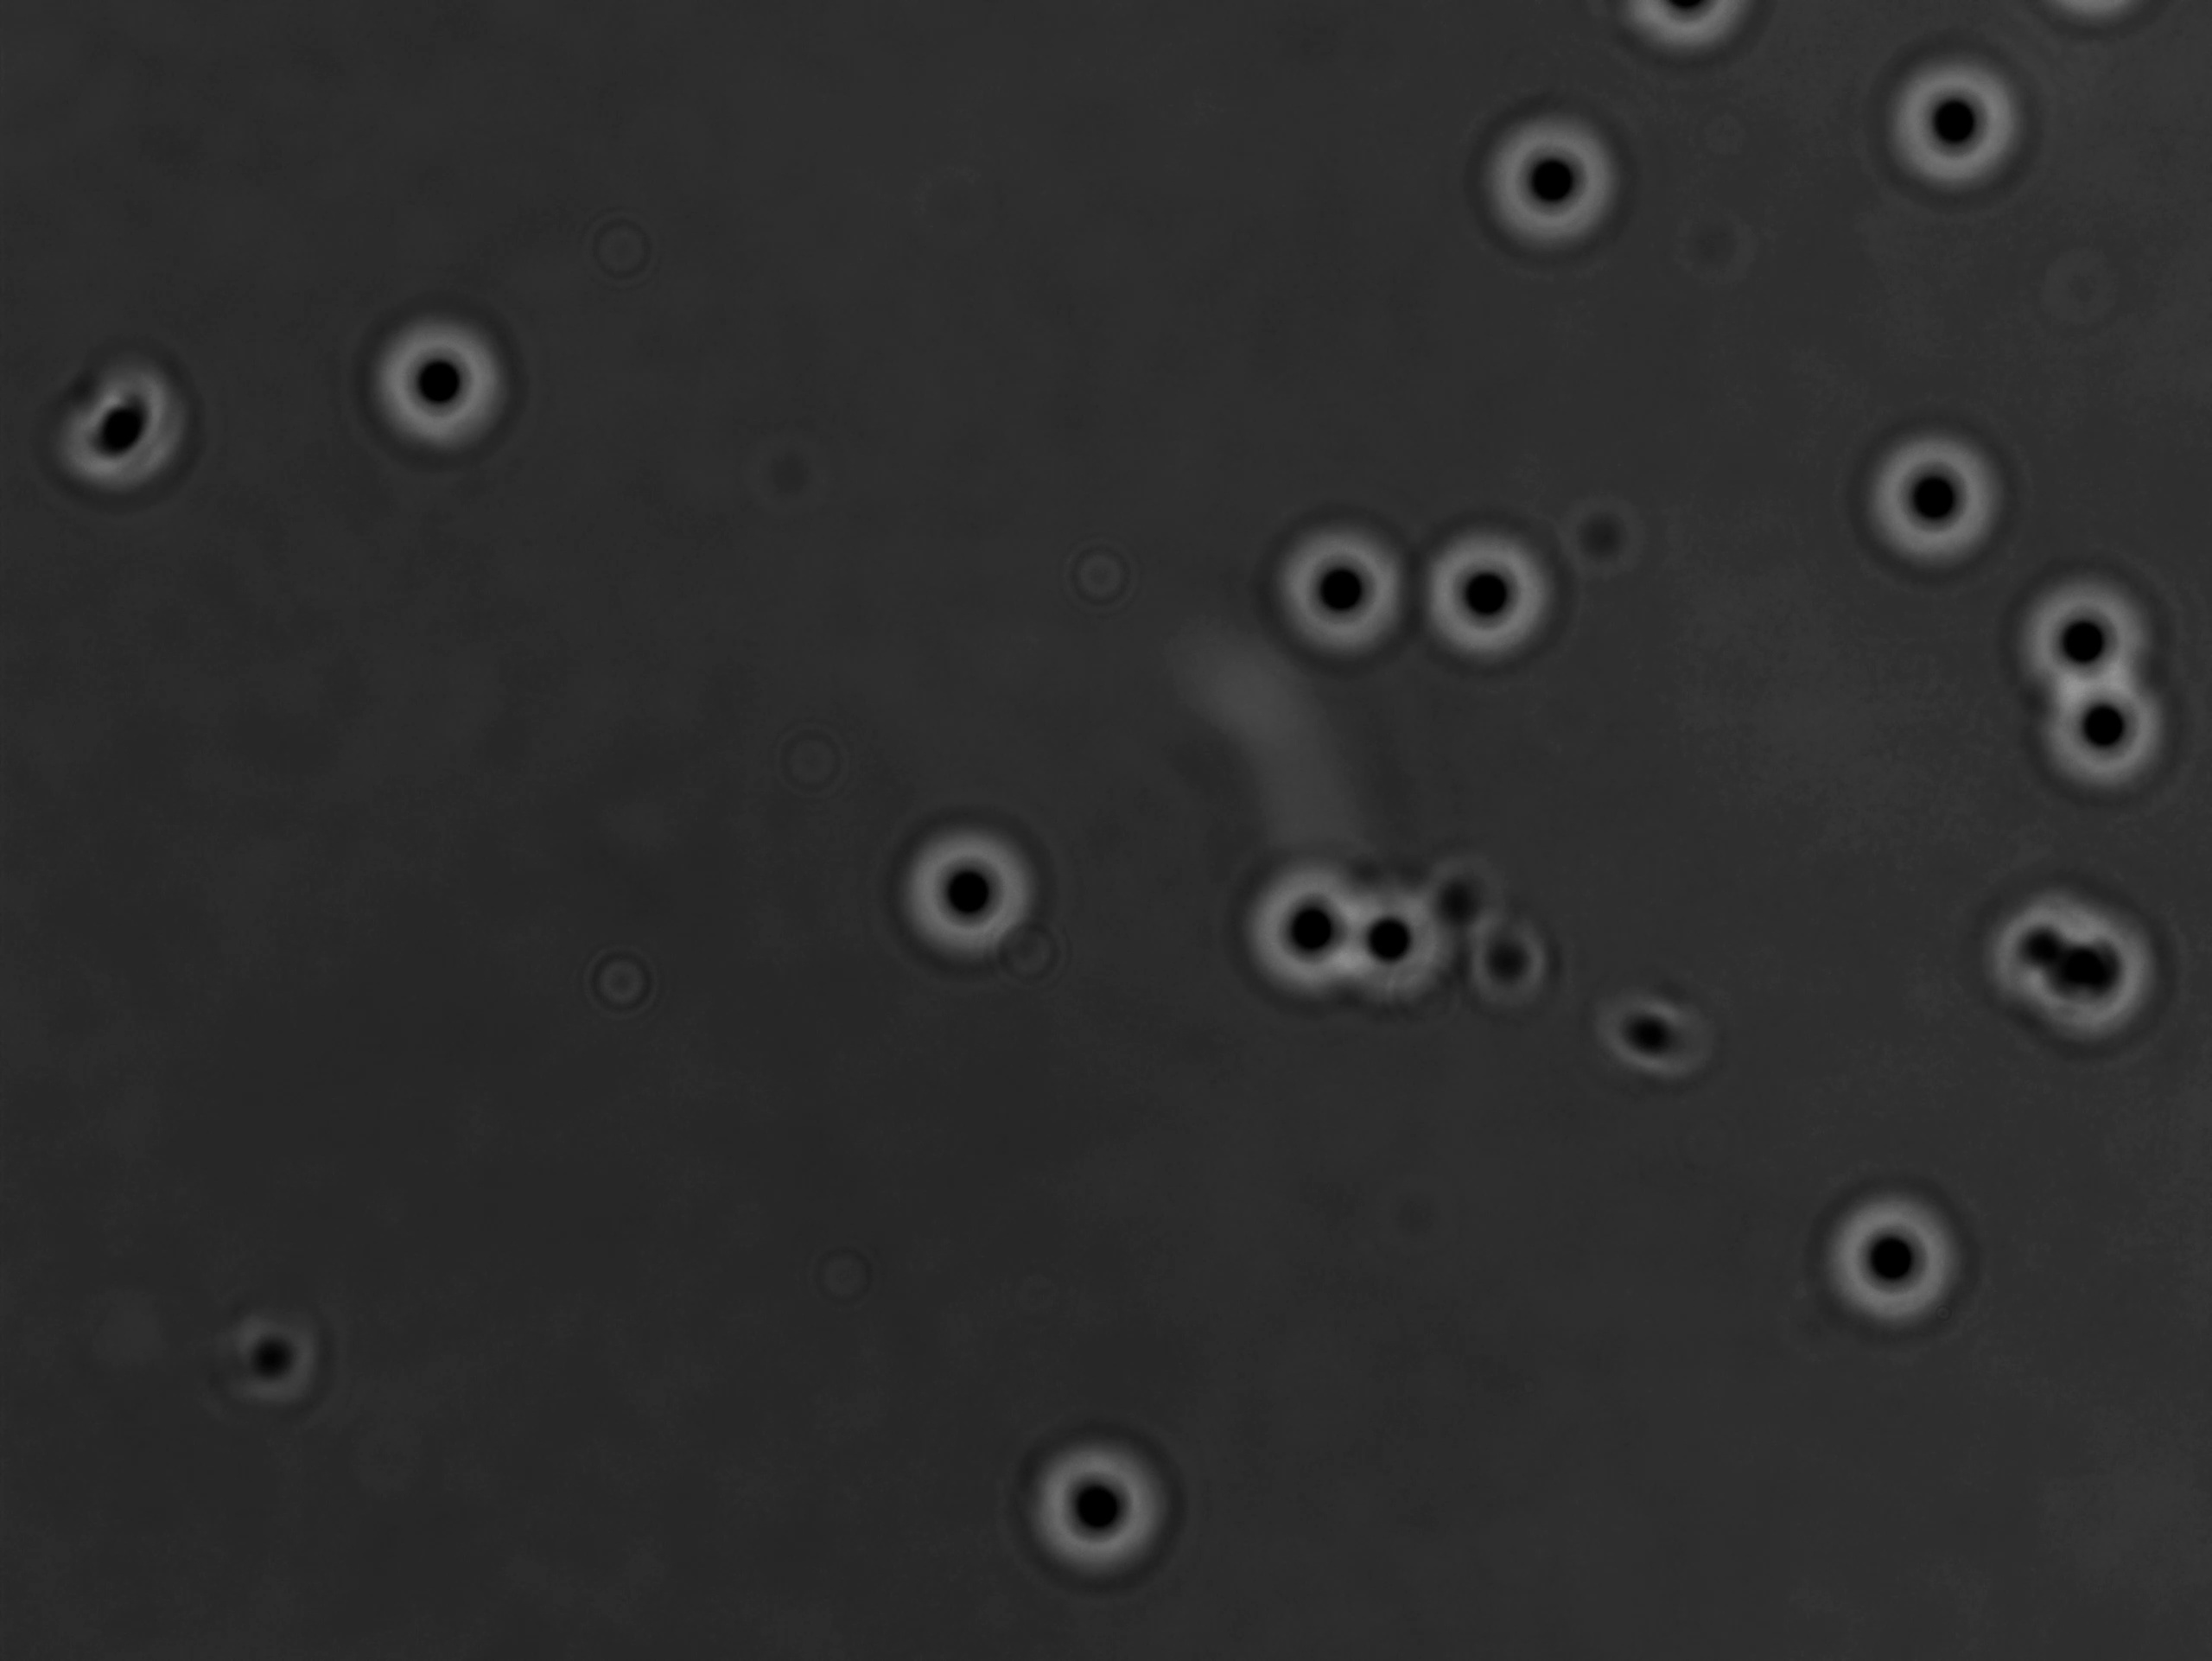depth:-40: (1863, 47, 2065, 229), (1389, 489, 1570, 689), (1844, 408, 2027, 600), (1807, 1171, 1989, 1350), (1014, 1425, 1191, 1602), (891, 801, 1059, 979), (1467, 99, 1638, 269), (354, 293, 513, 473), (1254, 504, 1415, 680), (2043, 663, 2207, 818), (2001, 557, 2170, 705), (1230, 846, 1387, 1003)
